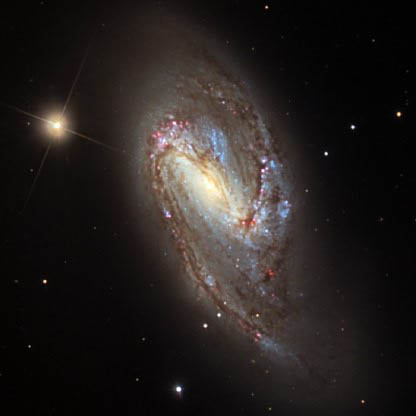Messier 66: (37, 28, 335, 378)
